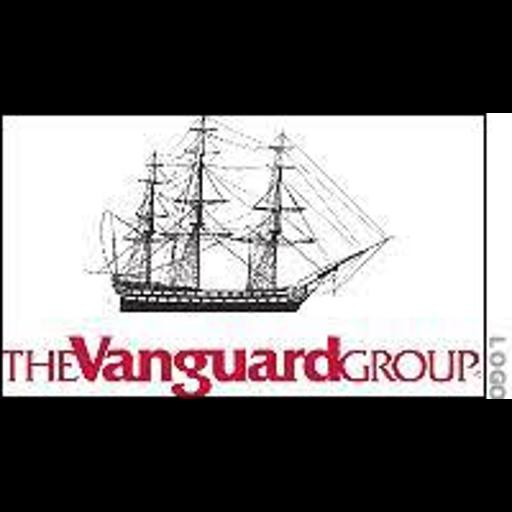The Vanguard Group: (0, 113, 512, 399)
